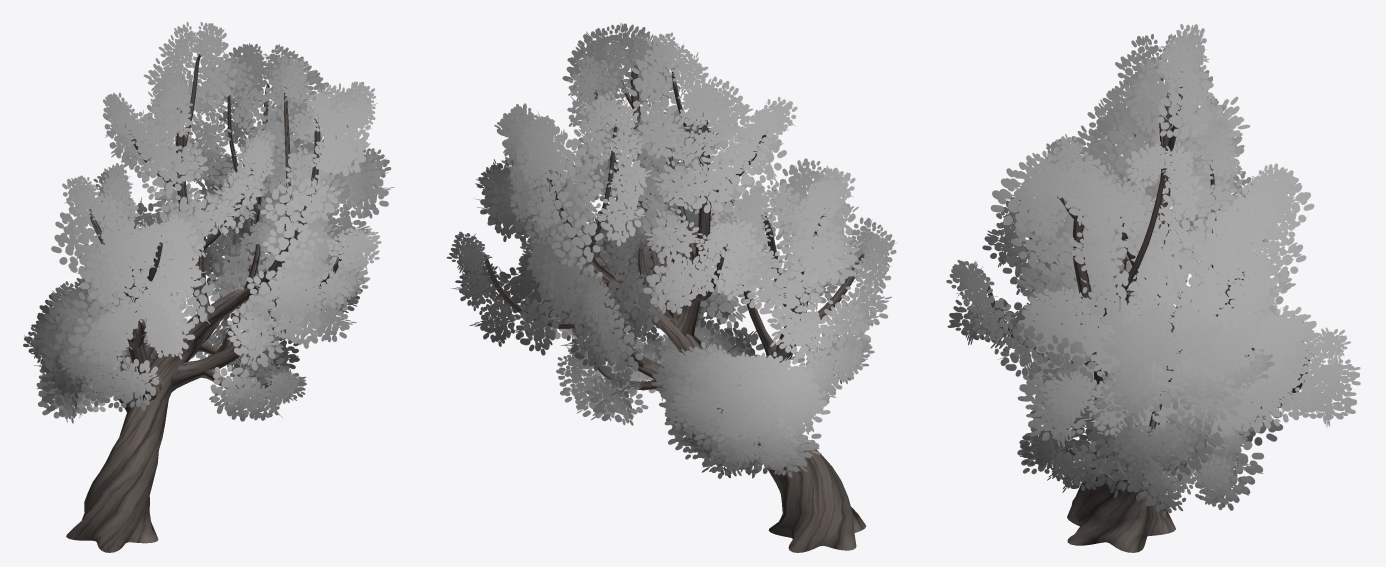
File: twisted-1.glb
3 views of the same model, side by side, from view 1: azimuth 30°, elevation 25°; view 2: azimuth 150°, elevation 25°; view 3: azimuth 270°, elevation 25° (orthographic). The views are drawn at different scales.
Parts seen in each view (by area): view 1: tree_038; view 2: tree_038; view 3: tree_038.
Boxes of the visible parts, x1,y1,x2,y2 form: tree_038: [23, 22, 394, 552]; tree_038: [446, 23, 896, 552]; tree_038: [946, 24, 1360, 552].
Size of the model in its own units: 13.52 by 16.73 by 11.55.
2 materials, 2 textured.
